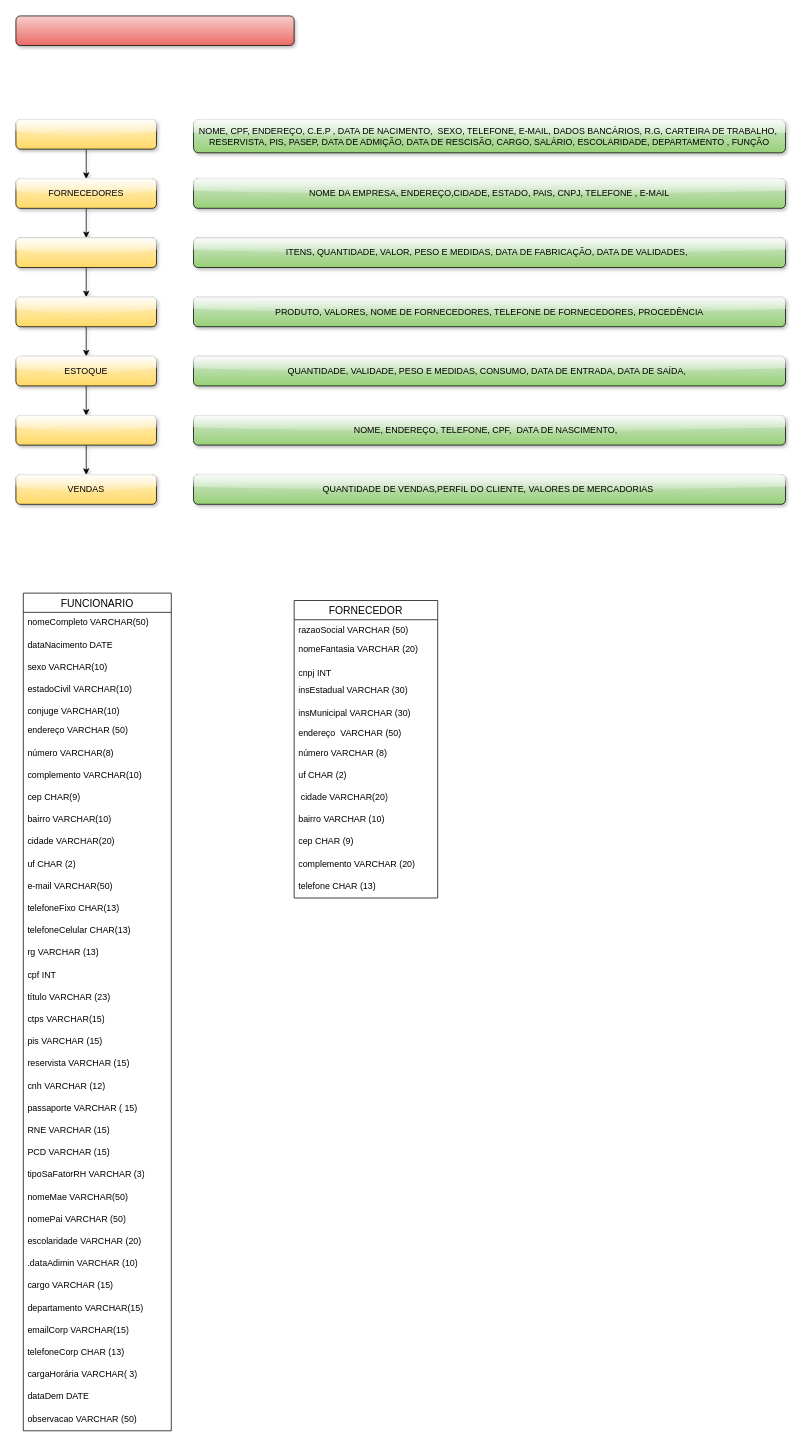
This 803x1446 diagram has some shape labels left out. Here are the shapes that lost their labels. From the top down, the centre of each, then its label:
At pixel 155 31: "TABELA HIERÁRQUICA".
At pixel 86 135: "FUNCIONÁRIOS".
At pixel 86 253: "PRODUTOS".
At pixel 86 312: "COMPRAS".
At pixel 86 431: "CLIENTE".
